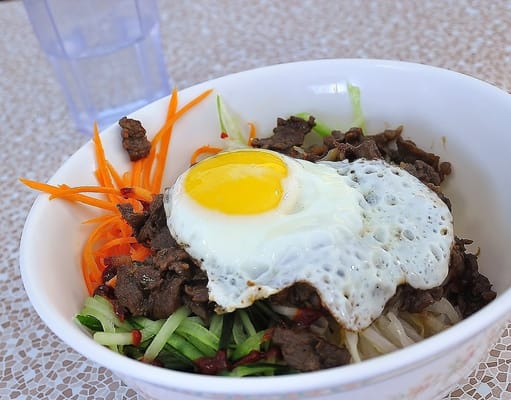pizza: (22, 2, 172, 133)
sushi: (18, 70, 503, 398), (18, 173, 499, 398)
